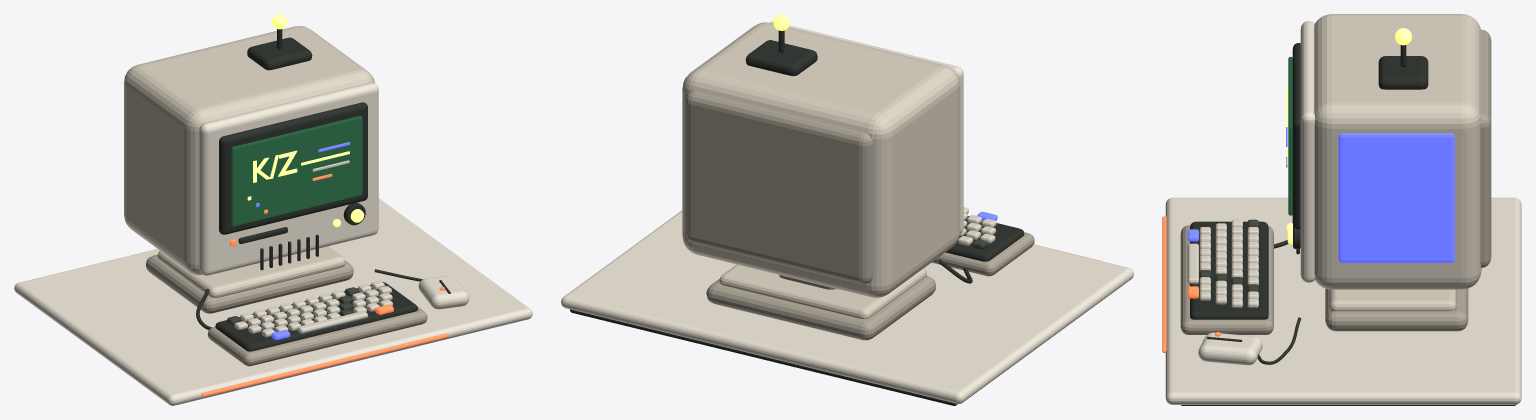
File: krishang-signal-terminal.glb
3 renders of one model, left to right at view 1: azimuth 30°, elevation 25°; view 2: azimuth 150°, elevation 25°; view 3: azimuth 270°, elevation 25°, orthographic. The views are drawn at different scales.
Visible parts, largest first — view 1: Signal_Plinth, Terminal_Case, Terminal_Face, Screen_Glass, Keyboard_Keys, Screen_Recess, Stand_Top, Stand_Base, Keyboard_Case, Keyboard_Deck, Telemetry_Cap, Signal_Mouse (+3 smaller); view 2: Signal_Plinth, Terminal_Case, Terminal_Back, Stand_Base, Stand_Top, Telemetry_Cap, Keyboard_Case, Plinth_Shadow, Keyboard_Deck, Terminal_Face, Keyboard_Keys; view 3: Signal_Plinth, Terminal_Case, Terminal_Side_Signal, Keyboard_Keys, Terminal_Face, Keyboard_Deck, Stand_Base, Stand_Top, Terminal_Back, Keyboard_Case, Signal_Mouse, Screen_Recess (+4 smaller).
Boxes of the visible parts, bbox=[...] form: Signal_Plinth: bbox=[14, 198, 532, 405]; Terminal_Case: bbox=[124, 26, 374, 275]; Terminal_Face: bbox=[199, 82, 378, 275]; Screen_Glass: bbox=[231, 116, 362, 226]; Keyboard_Keys: bbox=[227, 281, 393, 339]; Screen_Recess: bbox=[219, 102, 367, 234]; Stand_Top: bbox=[157, 246, 345, 297]; Stand_Base: bbox=[146, 254, 353, 313]; Keyboard_Case: bbox=[207, 307, 427, 366]; Keyboard_Deck: bbox=[215, 282, 417, 351]; Telemetry_Cap: bbox=[247, 37, 312, 70]; Signal_Mouse: bbox=[418, 275, 469, 309]; Signal_Plinth: bbox=[561, 210, 1133, 403]; Terminal_Case: bbox=[682, 22, 960, 297]; Terminal_Back: bbox=[685, 91, 873, 284]; Stand_Base: bbox=[706, 276, 935, 340]; Stand_Top: bbox=[719, 264, 926, 319]; Telemetry_Cap: bbox=[745, 40, 817, 76]; Keyboard_Case: bbox=[932, 232, 1034, 276]; Plinth_Shadow: bbox=[570, 309, 957, 405]; Keyboard_Deck: bbox=[945, 216, 1024, 261]; Terminal_Face: bbox=[770, 21, 963, 233]; Keyboard_Keys: bbox=[958, 207, 997, 249]; Signal_Plinth: bbox=[1165, 197, 1521, 404]; Terminal_Case: bbox=[1314, 14, 1481, 289]; Terminal_Side_Signal: bbox=[1338, 133, 1454, 262]; Keyboard_Keys: bbox=[1187, 219, 1258, 307]; Terminal_Face: bbox=[1300, 21, 1315, 282]; Keyboard_Deck: bbox=[1190, 221, 1268, 319]; Stand_Base: bbox=[1325, 288, 1468, 331]; Stand_Top: bbox=[1329, 289, 1456, 311]; Terminal_Back: bbox=[1480, 29, 1491, 267]; Keyboard_Case: bbox=[1180, 225, 1273, 334]; Signal_Mouse: bbox=[1198, 332, 1262, 365]; Screen_Recess: bbox=[1292, 43, 1300, 229].
Size of the model in its own units: 7.1 by 4.99 by 5.4.
